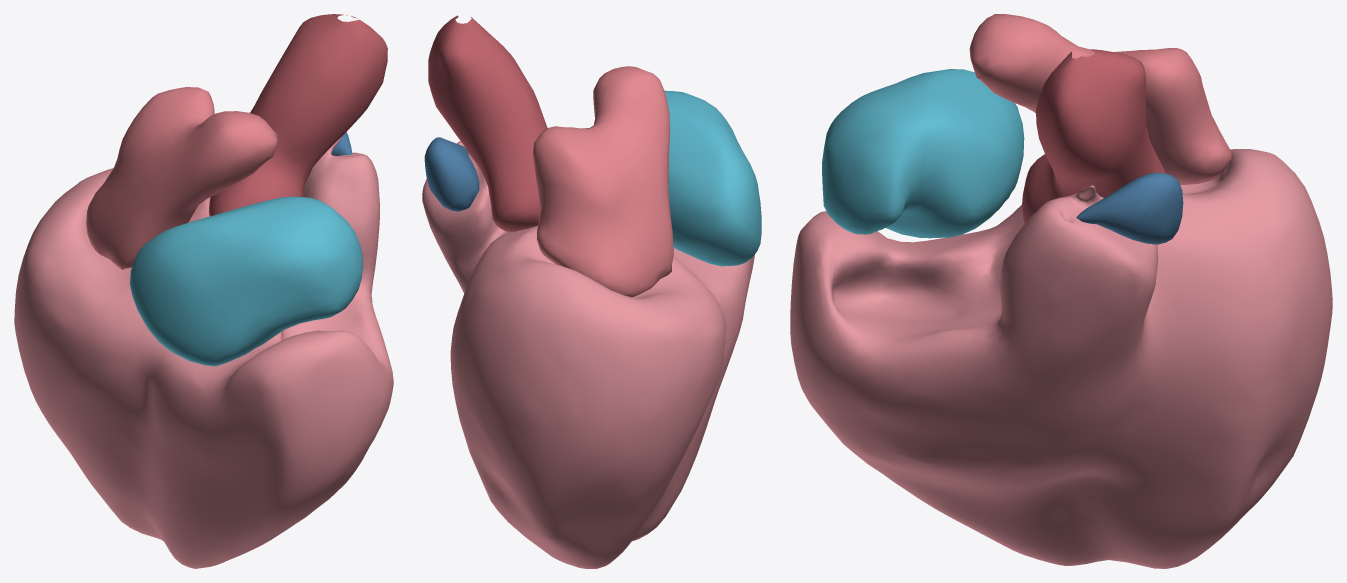
Rendered from frame_19.glb.
The picture shows the model from 3 angles, left to right: view 1: azimuth 30°, elevation 25°; view 2: azimuth 150°, elevation 25°; view 3: azimuth 270°, elevation 25°; orthographic projection. The views are drawn at different scales.
Parts seen in each view (by area): view 1: Renderer Node; view 2: Renderer Node; view 3: Renderer Node.
Part boxes in pixels (<box>): Renderer Node: <box>14,14,393,568</box>; Renderer Node: <box>422,15,761,568</box>; Renderer Node: <box>790,14,1332,568</box>.
Bounding box in the file's own units: 107 × 163 × 132.
